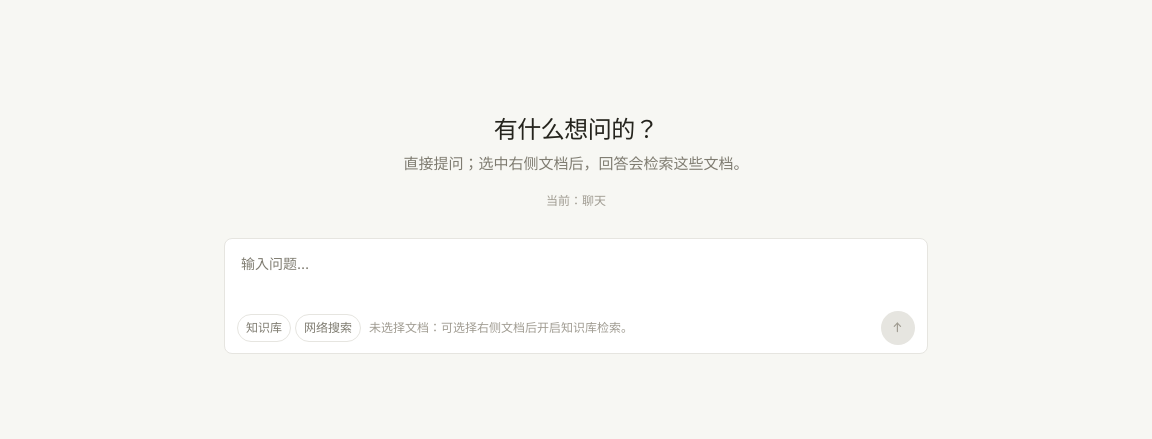
it: WorkspaceChatPane capabilities › can select search alone and shows search chip after reply
Click the button with test id "workspace-chat-cap-search": (328, 328) [295,314,361,342]
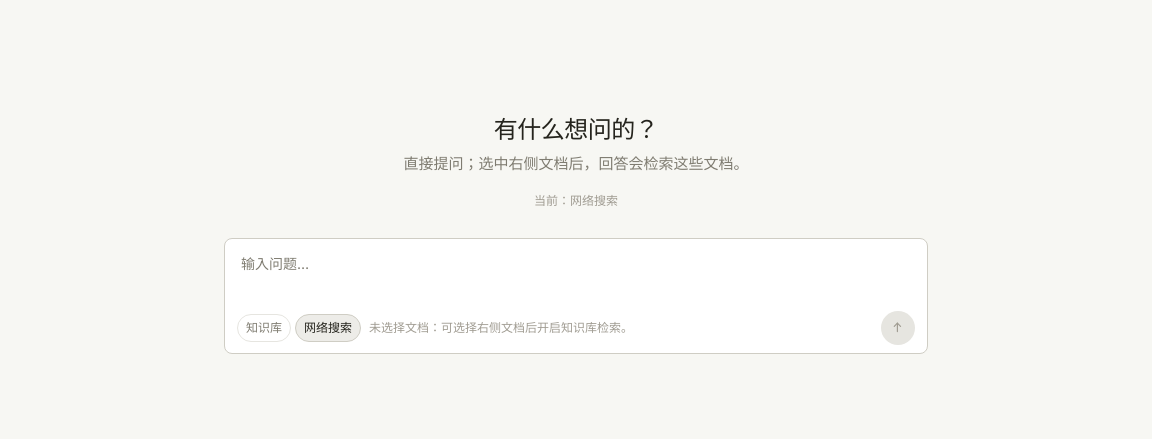
In the text box named "工作区对话输入框": (576, 277) [237,251,915,303], type "Search please"
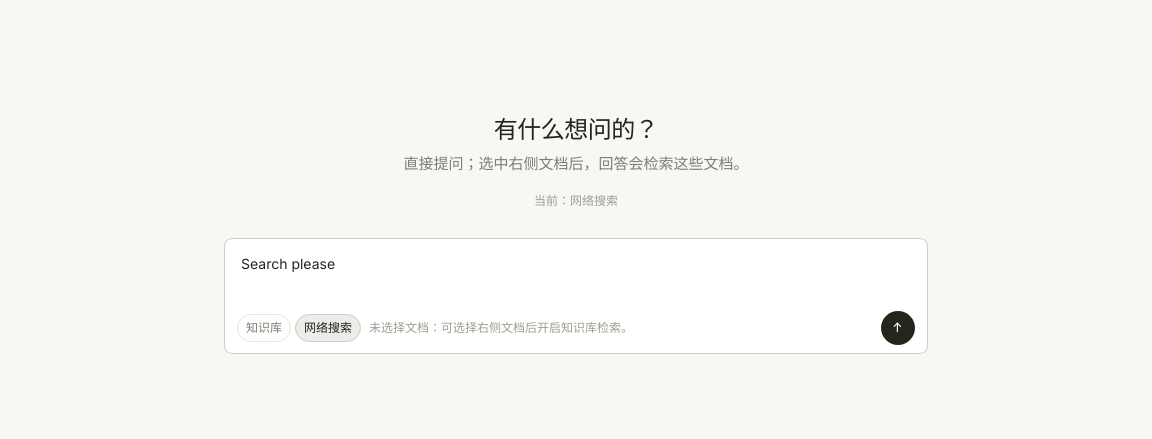
Press Enter
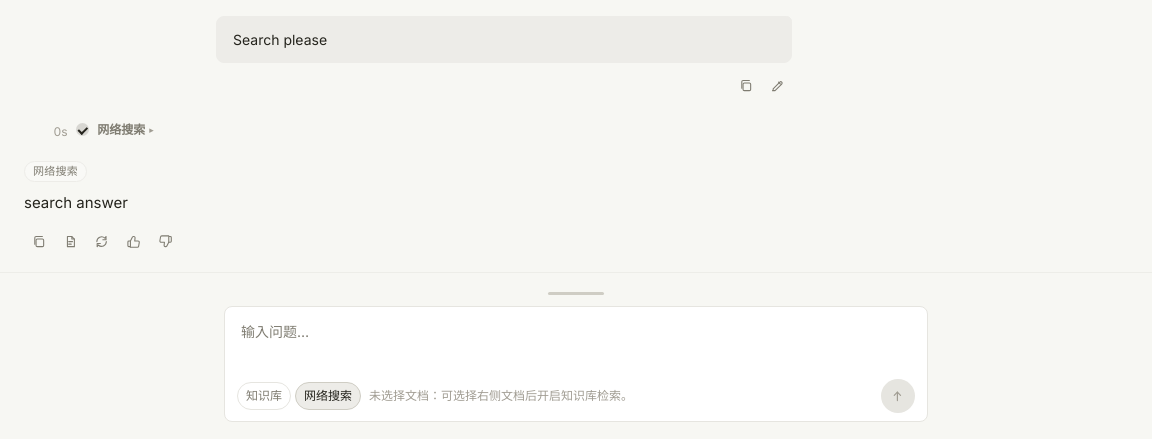
Expected: the text with test id "capability-chip-search" is shown, [24,161,87,182]
